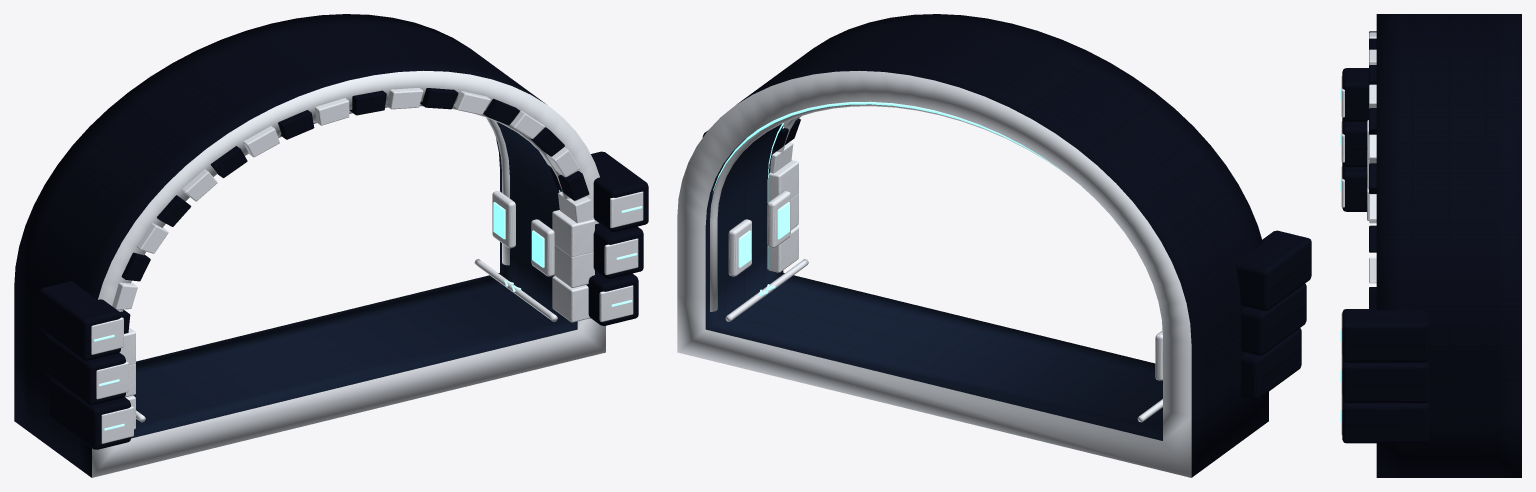
File: portal_entry.glb
3 views of the same model, side by side, from view 1: azimuth 30°, elevation 25°; view 2: azimuth 150°, elevation 25°; view 3: azimuth 270°, elevation 25° (orthographic). The views are drawn at different scales.
Parts seen in each view (by area): view 1: TunnelGeometry; view 2: TunnelGeometry; view 3: TunnelGeometry.
Part boxes in pixels (box(x1,y1,x2,y2)): TunnelGeometry: box(14, 14, 648, 477); TunnelGeometry: box(677, 14, 1311, 477); TunnelGeometry: box(1340, 14, 1521, 477).
Size of the model in its own units: 16.85 by 9.52 by 5.01.
4 materials, 2 textured.
